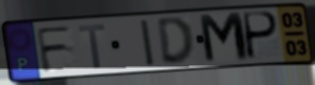D: (155, 15, 197, 67)
F: (34, 24, 74, 75)
I: (138, 18, 158, 69)
M: (197, 10, 253, 66)
P: (243, 10, 281, 62)
T: (76, 22, 107, 71)
